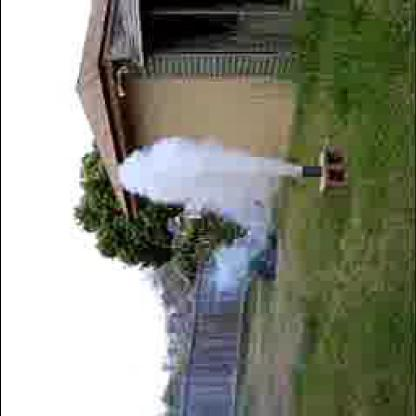Smoke: (124, 137, 286, 211)
